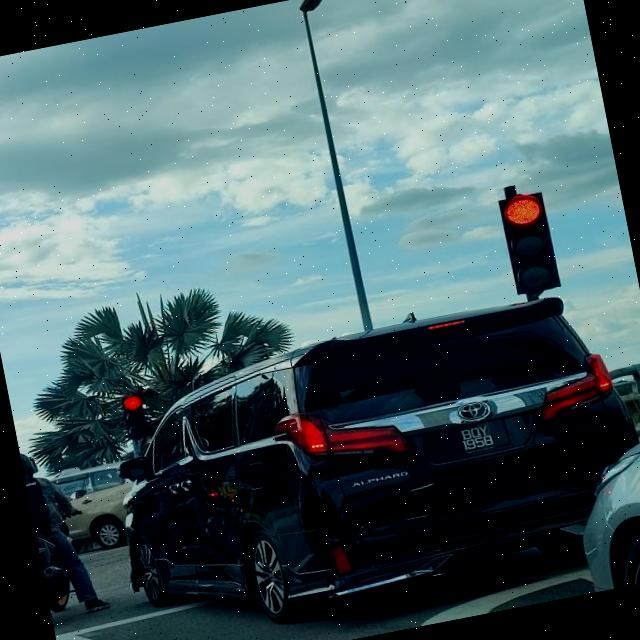red_light: (498, 190, 564, 298), (118, 394, 150, 444)
